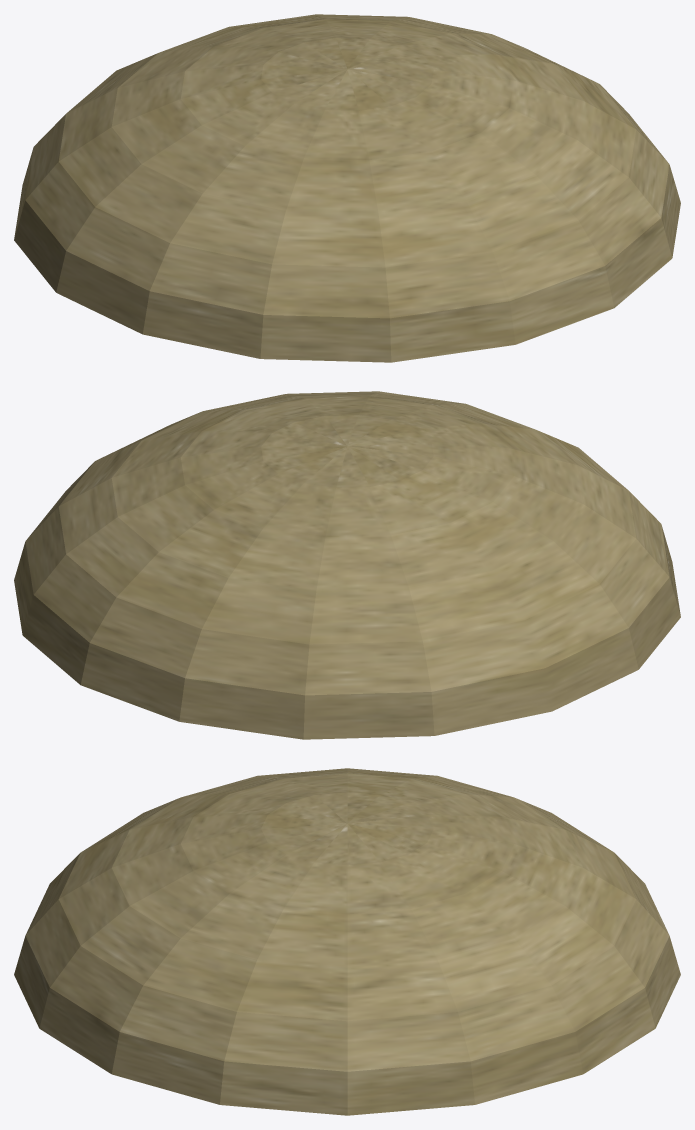
The model's file is sandRoof.obj.
3 views of the same model, one above another, from view 1: azimuth 30°, elevation 25°; view 2: azimuth 150°, elevation 25°; view 3: azimuth 270°, elevation 25° (orthographic).
Parts seen in each view (by area): view 1: sandRoof; view 2: sandRoof; view 3: sandRoof.
Part boxes in pixels (bbox=[...]): sandRoof: bbox=[14, 14, 680, 362]; sandRoof: bbox=[14, 391, 680, 739]; sandRoof: bbox=[14, 768, 680, 1115].
Bounding box in the file's own units: 4 × 1 × 4.
1 material, 1 textured.
